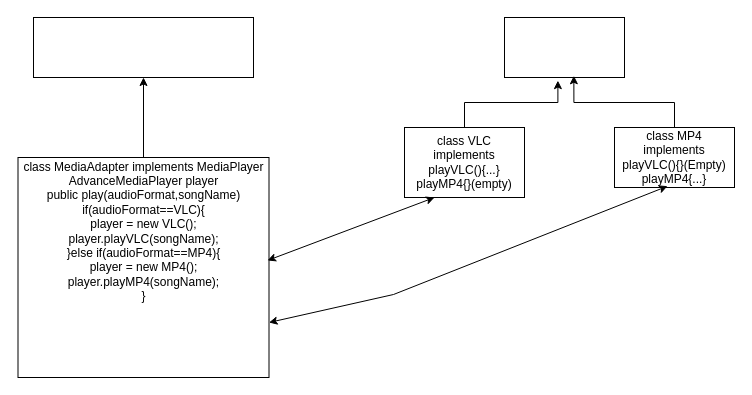
The diagram is 752 pixels wide and 395 high, and some of its shapes have lost their labels. The shapes that lost their labels are listed below. From the top down, each one's centre as x and y in pixels, then its label:
point 143,47: Media Player void play(audioFormat,songName) <Interface>
point 564,47: AdvanceMediaPlayer playMP4(song) playVLC(song) <interface>
